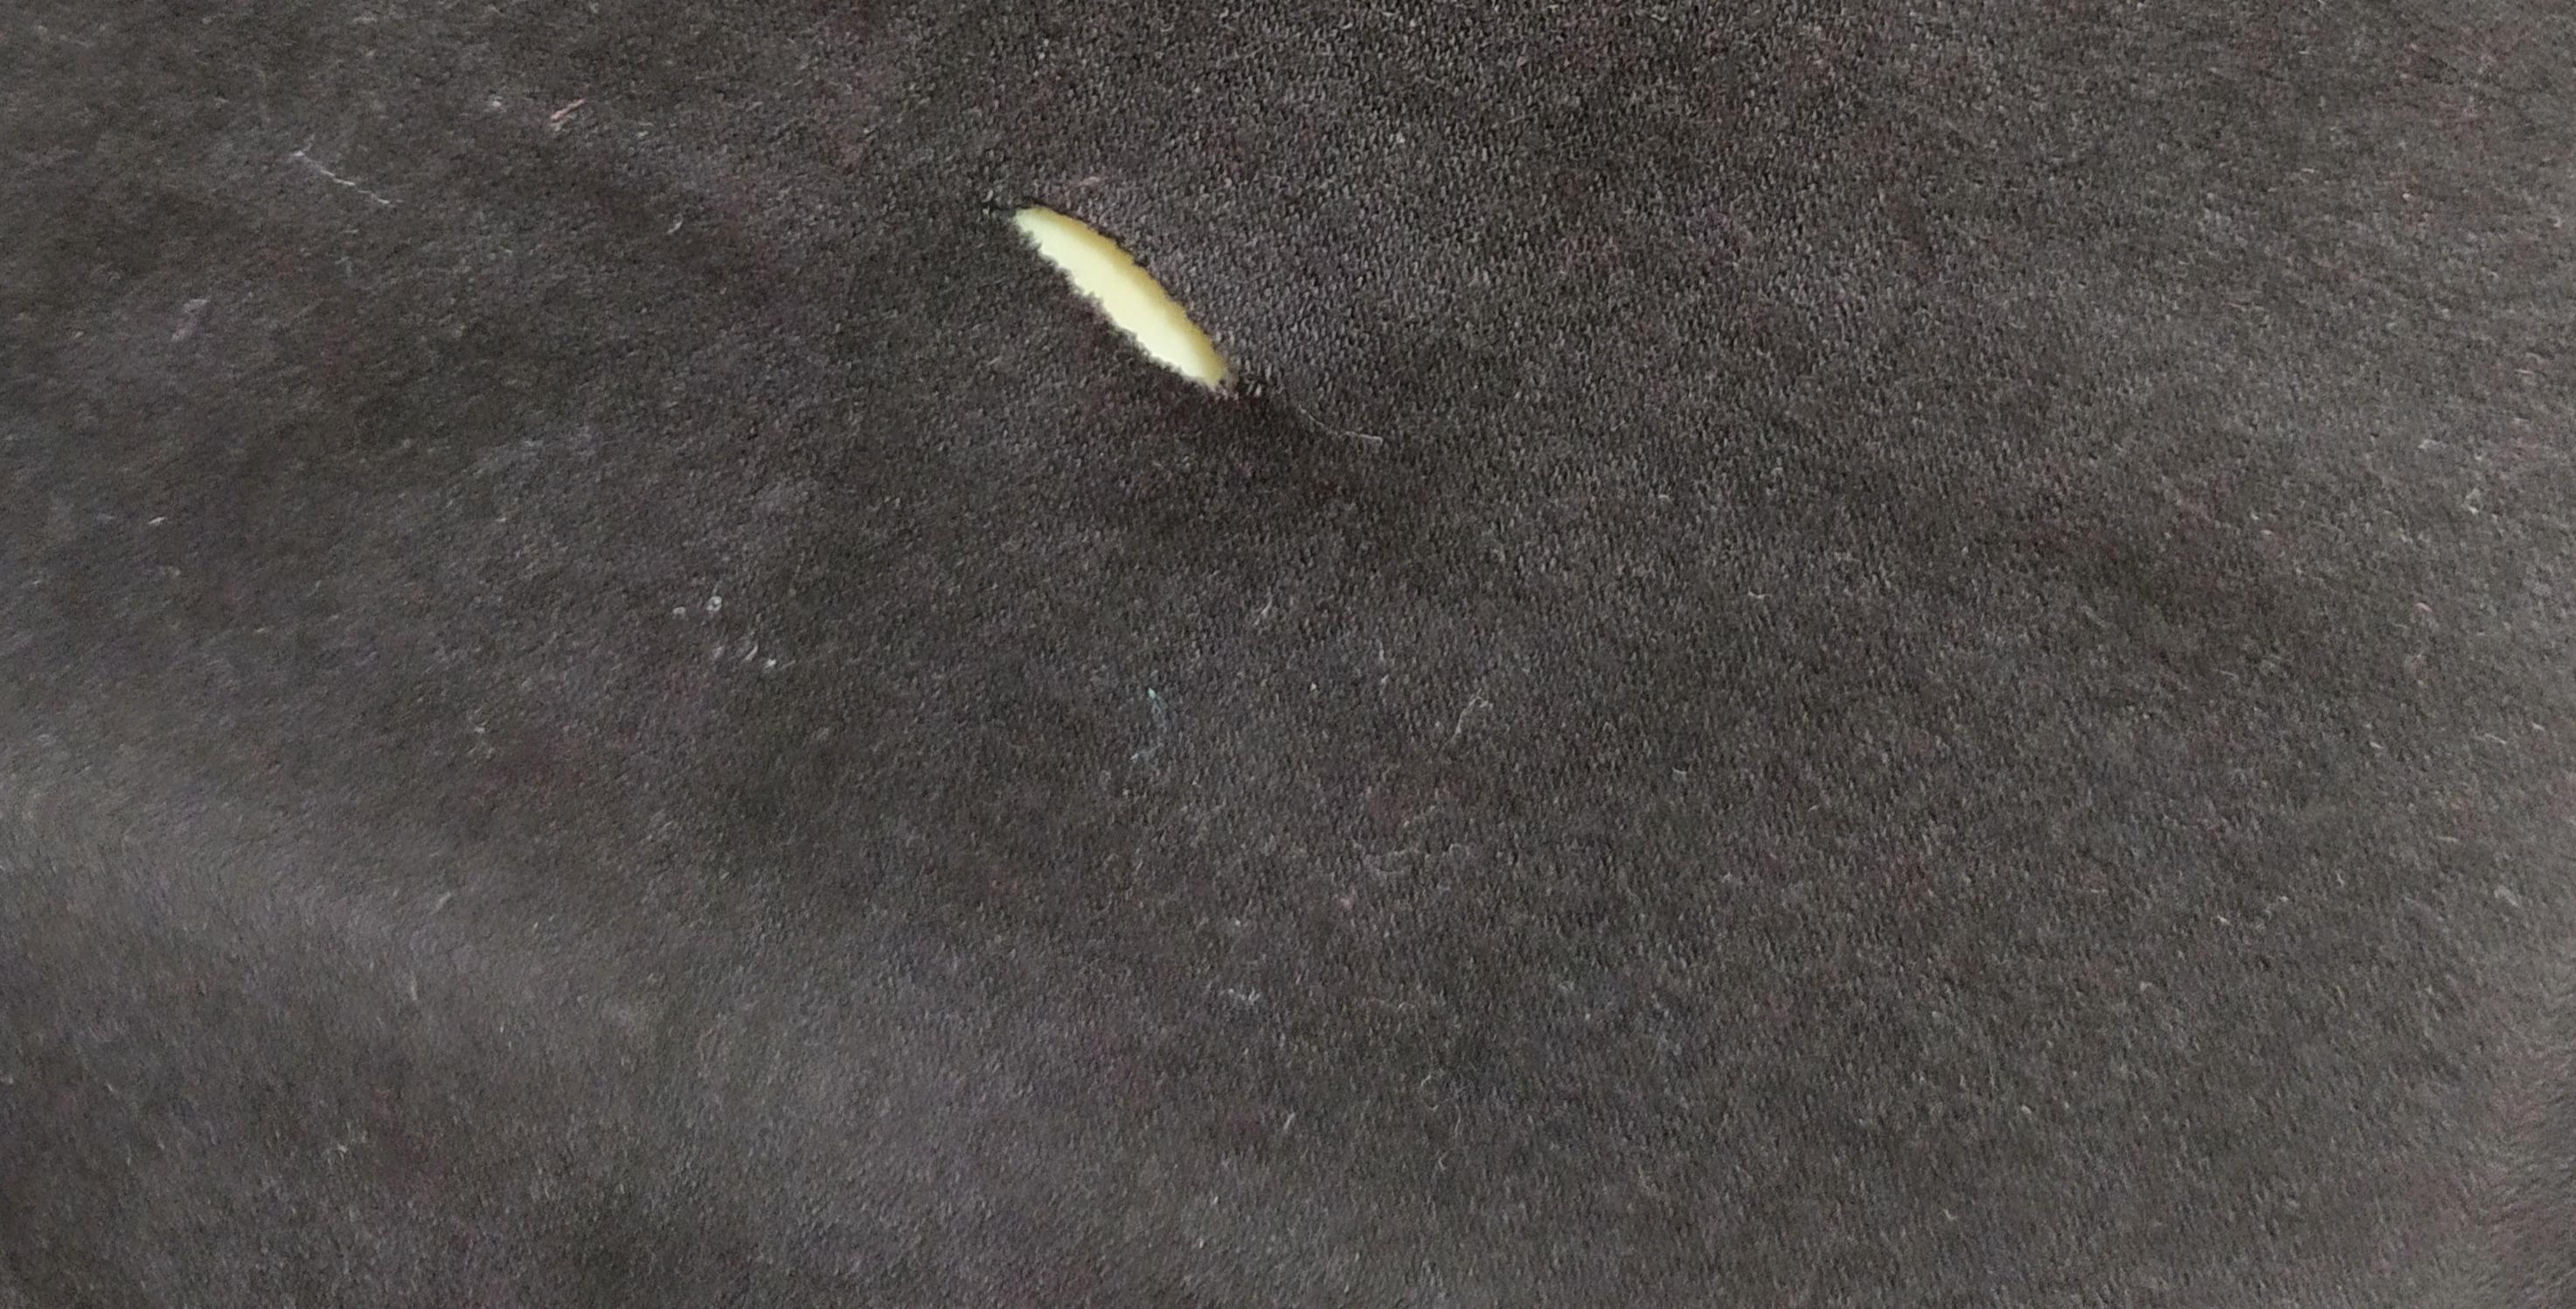hole: (984, 174, 1261, 412)
